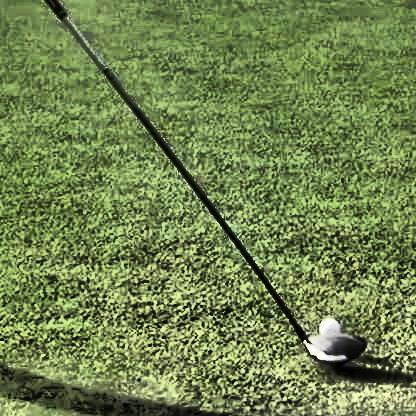golfball: (315, 314, 337, 337)
